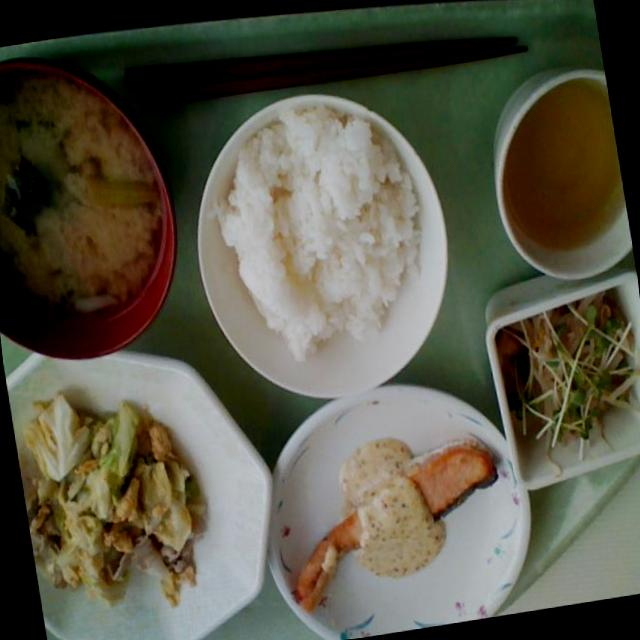Rice: (202, 90, 436, 364)
